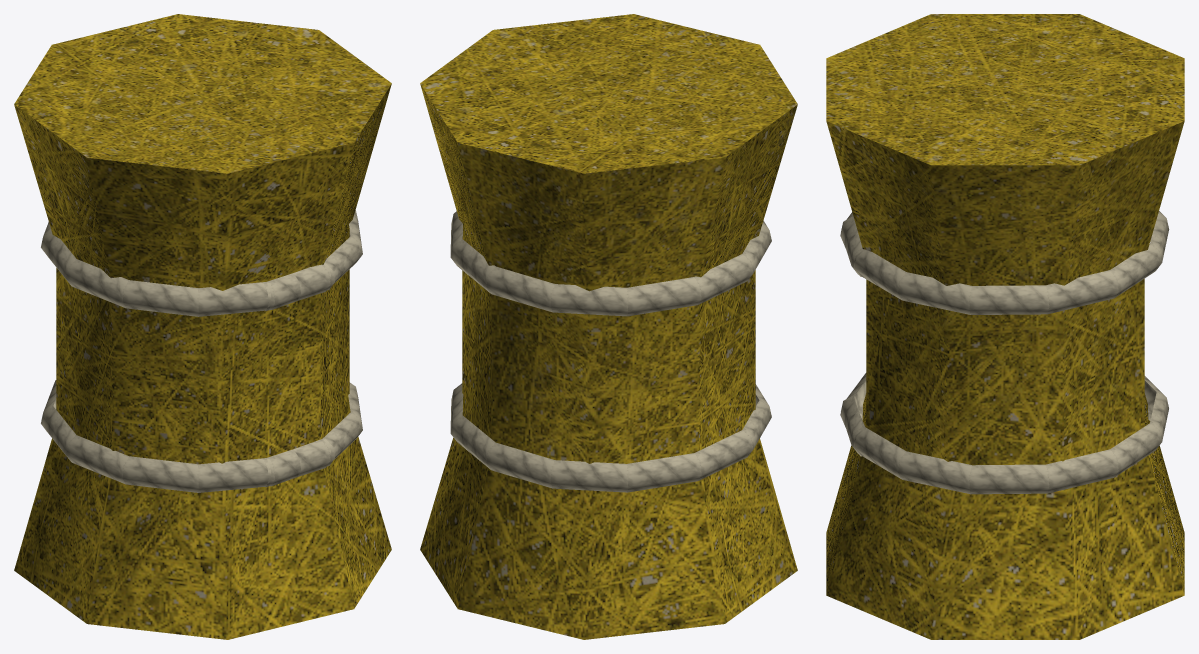
The model's file is bottedefoinroundwrope.glb.
The picture shows the model from 3 angles, left to right: view 1: azimuth 30°, elevation 25°; view 2: azimuth 150°, elevation 25°; view 3: azimuth 270°, elevation 25°; orthographic projection.
Visible parts, largest first — view 1: bottedefoinroundwrope; view 2: bottedefoinroundwrope; view 3: bottedefoinroundwrope.
Part boxes in pixels (x1,y1,x2,y2): bottedefoinroundwrope: (14,14,391,639); bottedefoinroundwrope: (420,14,797,639); bottedefoinroundwrope: (826,14,1184,639).
Bounding box in the file's own units: 1.83 × 2.68 × 1.83.
Materials: 2 (2 with a texture image).
